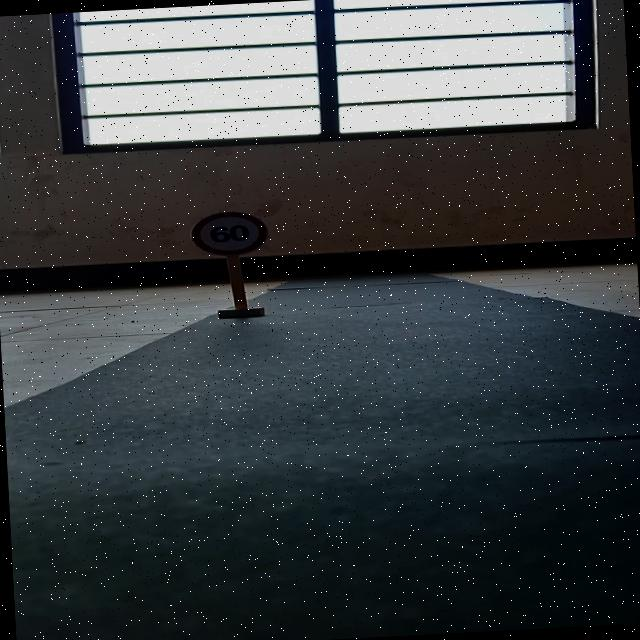Speed60: (185, 210, 274, 260)
